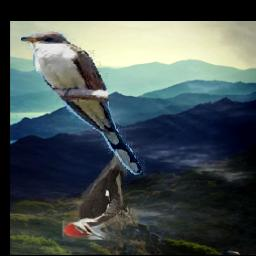Cuckoo: (20, 30, 144, 175)
Woodpecker: (61, 150, 137, 240)
